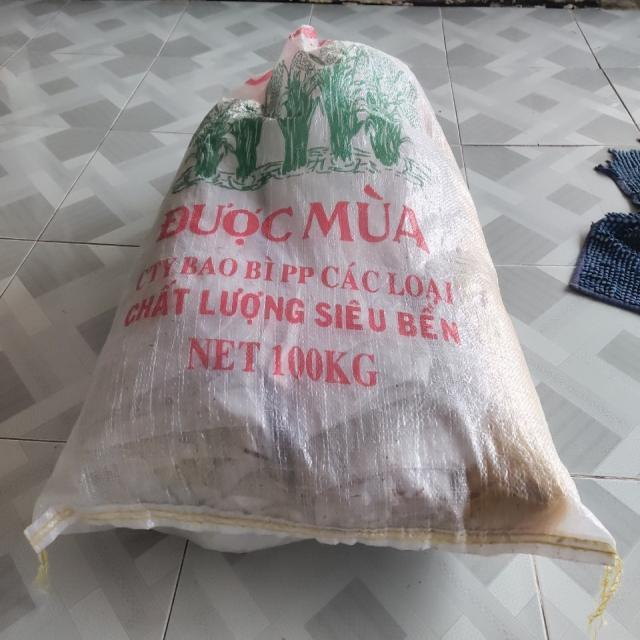gunny_bag: (24, 25, 619, 566)
